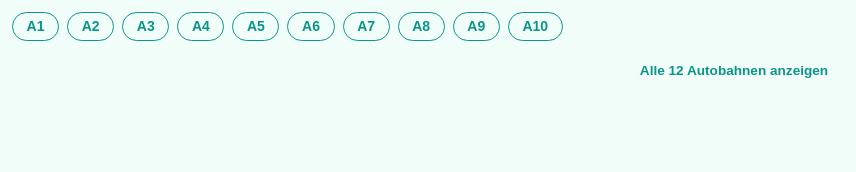
Test: AutobahnSelector › shows all roads after clicking show-more button
The image size is (856, 172).
Click the button with test id "show-more-button" at (732, 71), box [625,58,839,83]
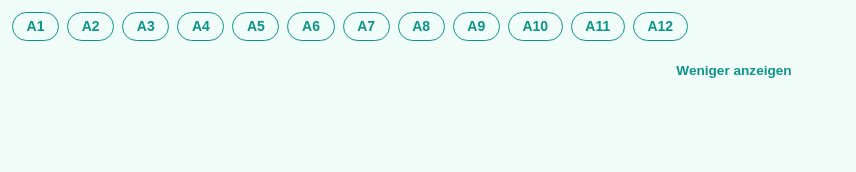
Now the button with test id "road-chip-A11" is shown, box [571,12,625,41]
Now the button with test id "road-chip-A12" is shown, box [633,12,688,41]
